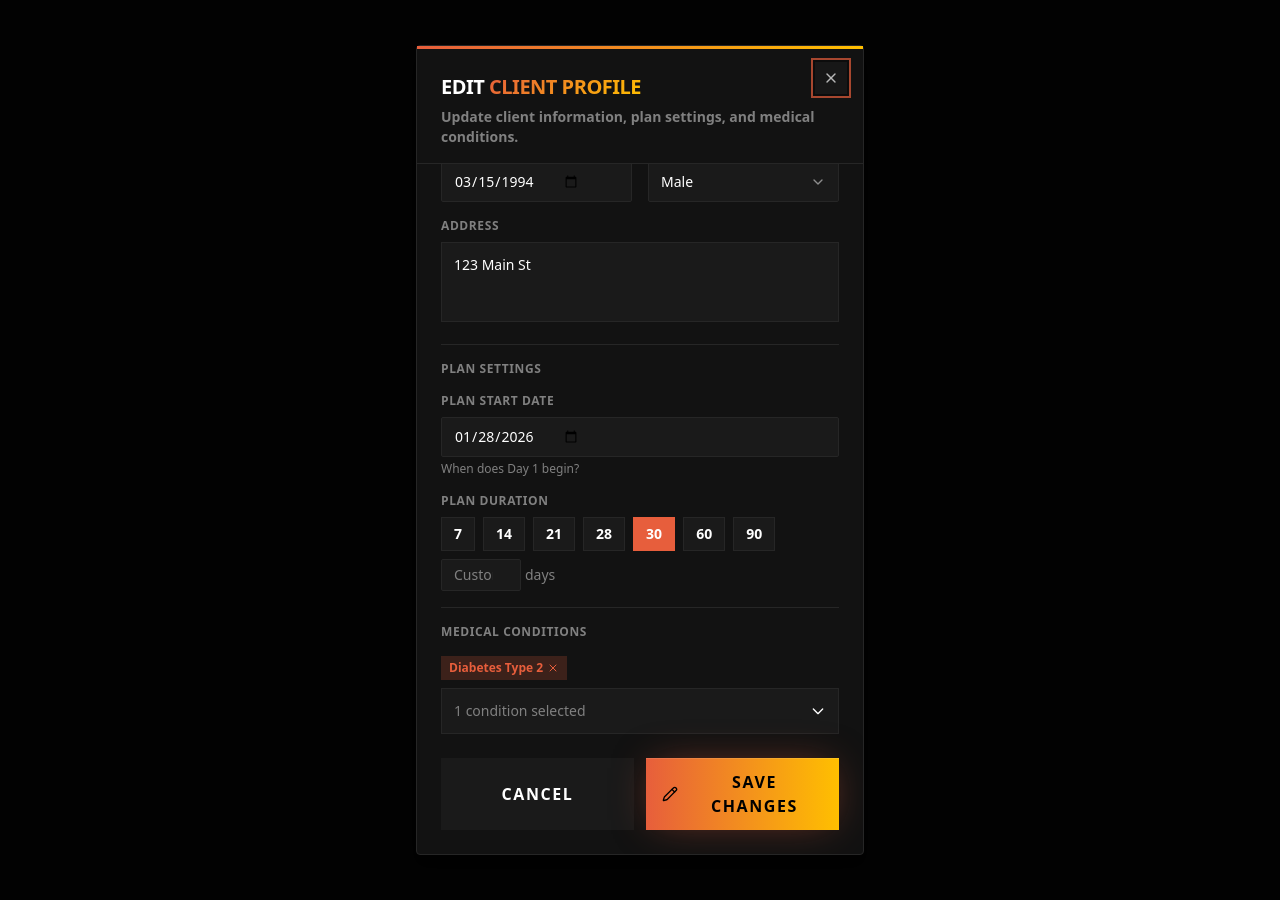
Test: EditClientModal Component › Medical Conditions Management › can remove existing condition by clicking X
(page scrolled)
Click the button without text next to "Diabetes Type 2".
click(553, 668)  # box [547,662,559,674]
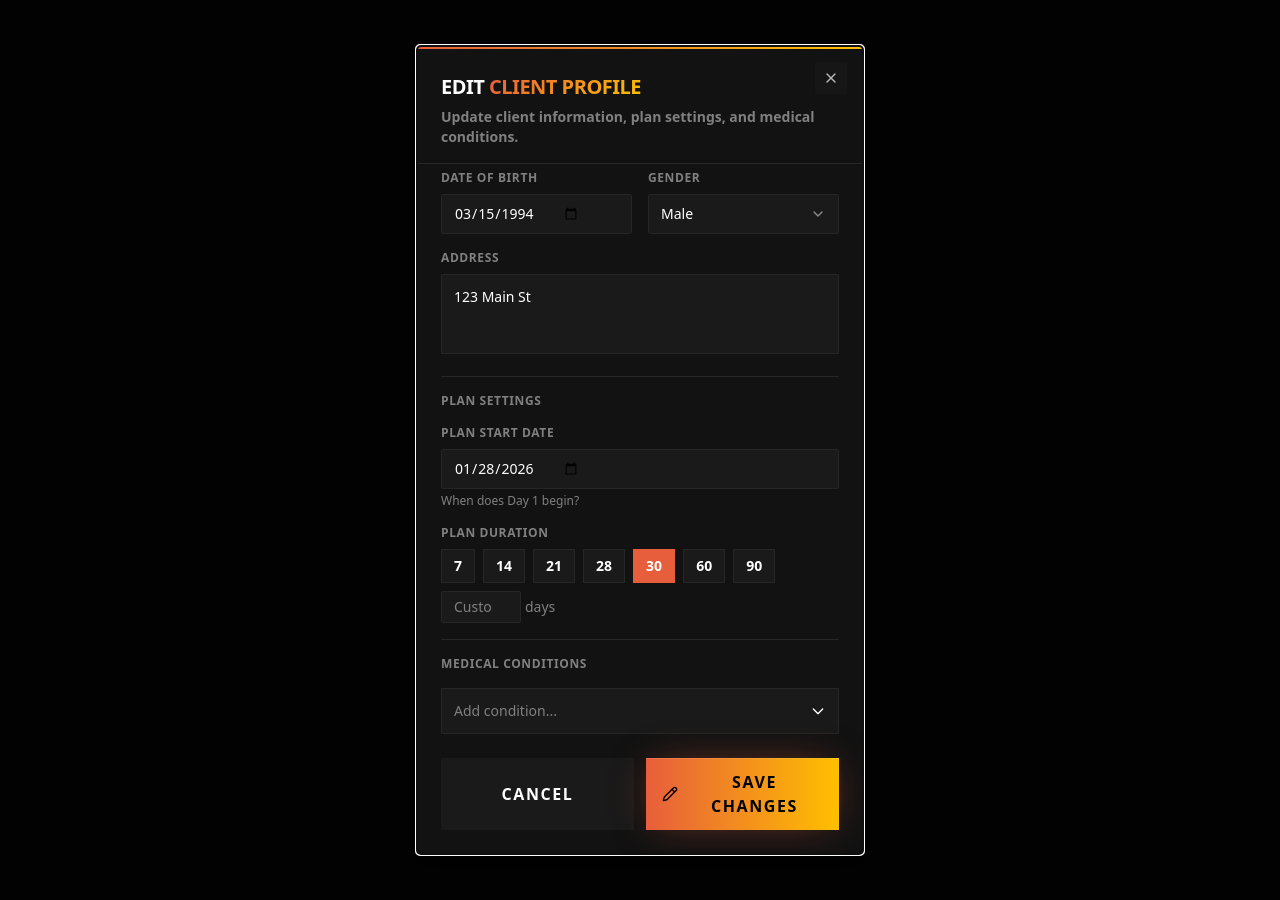
Check: the button "1 condition selected" is gone
